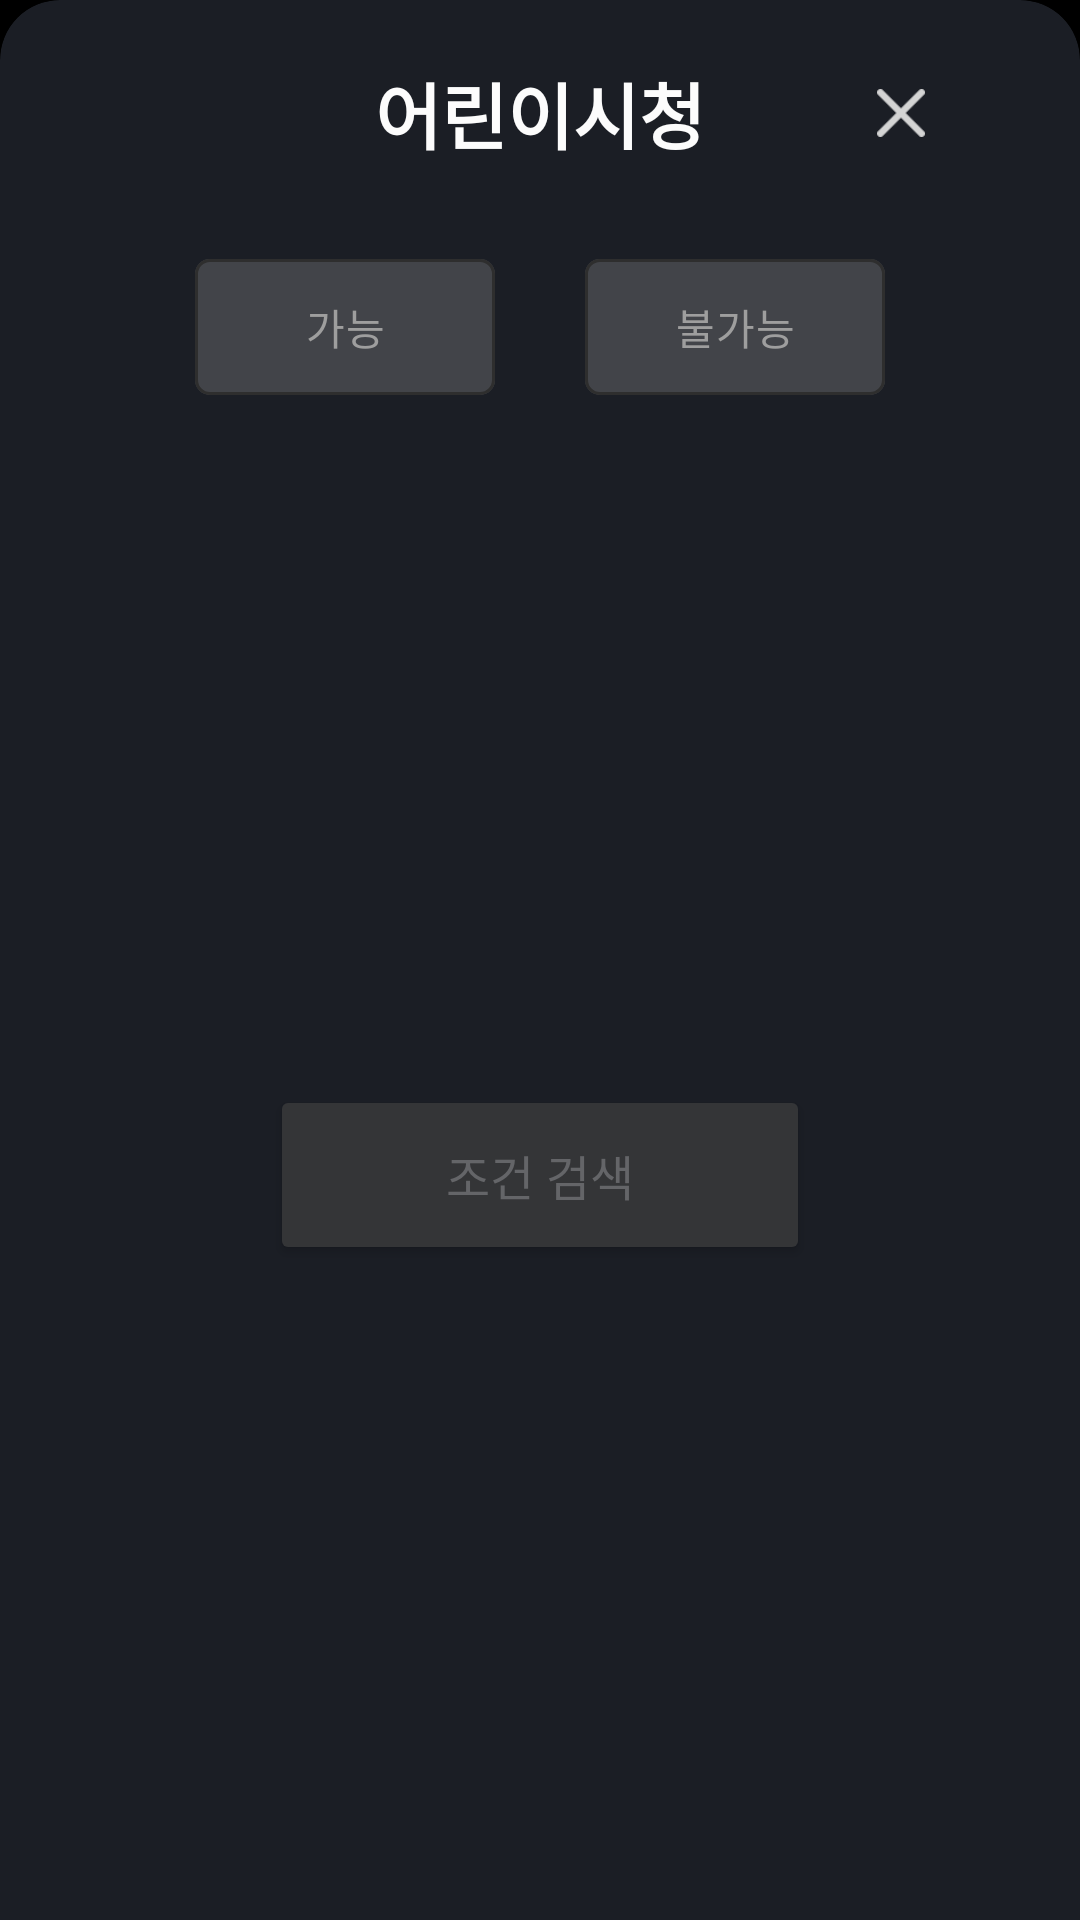

Point at icon controls on the screen. Image size 1080px×1920px, points as point (x, y).
searchfilter close: point (901, 113)
